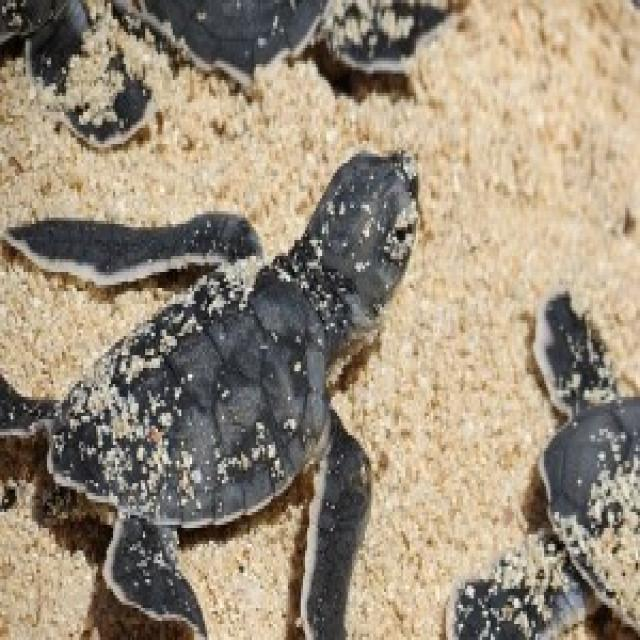Sea turtle: (0, 134, 440, 640)
